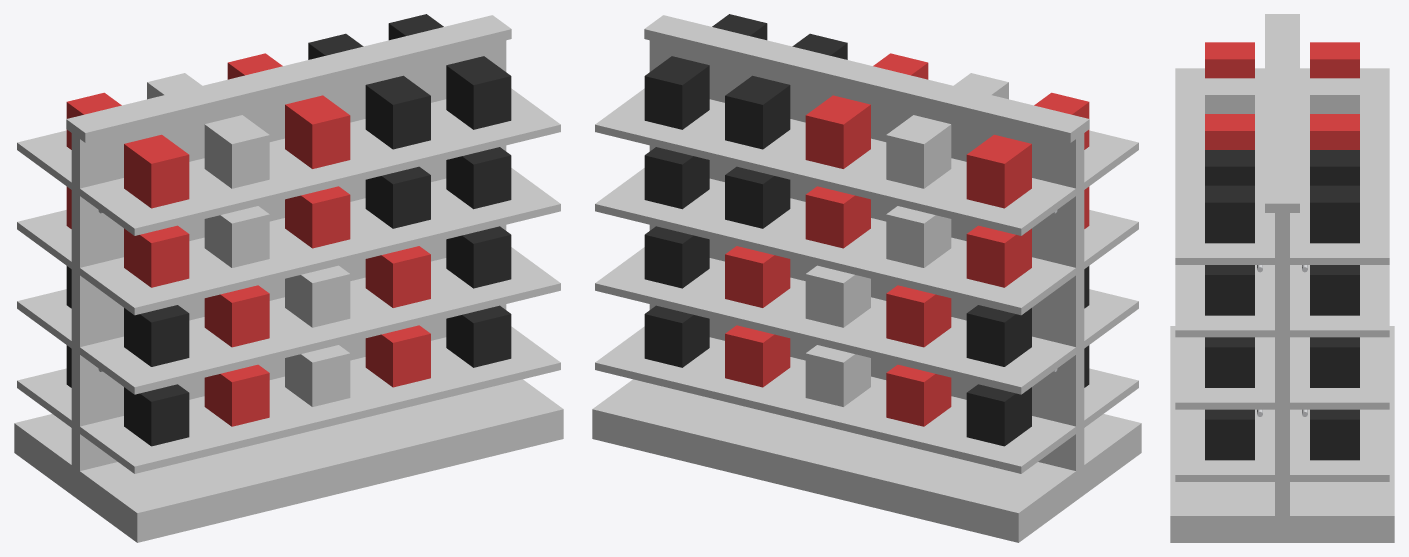
The model's file is nintendo_gondola.glb.
3 views of the same model, side by side, from view 1: azimuth 30°, elevation 25°; view 2: azimuth 150°, elevation 25°; view 3: azimuth 270°, elevation 25° (orthographic). The views are drawn at different scales.
Parts seen in each view (by area): view 1: nintendo_gondola, products; view 2: nintendo_gondola, products; view 3: nintendo_gondola, products.
Part boxes in pixels (box(x1,y1,x2,y2)): nintendo_gondola: box(14, 15, 563, 542); products: box(66, 14, 511, 446); nintendo_gondola: box(592, 15, 1141, 542); products: box(644, 14, 1089, 446); nintendo_gondola: box(1170, 14, 1394, 542); products: box(1205, 42, 1359, 460).
Size of the model in its own units: 1.8 by 1.5 by 0.9.
